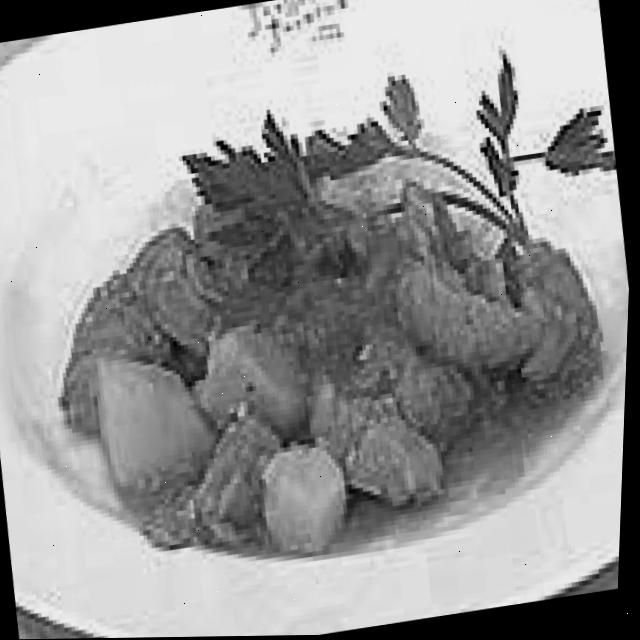牛肉菜式: (0, 26, 639, 602)
